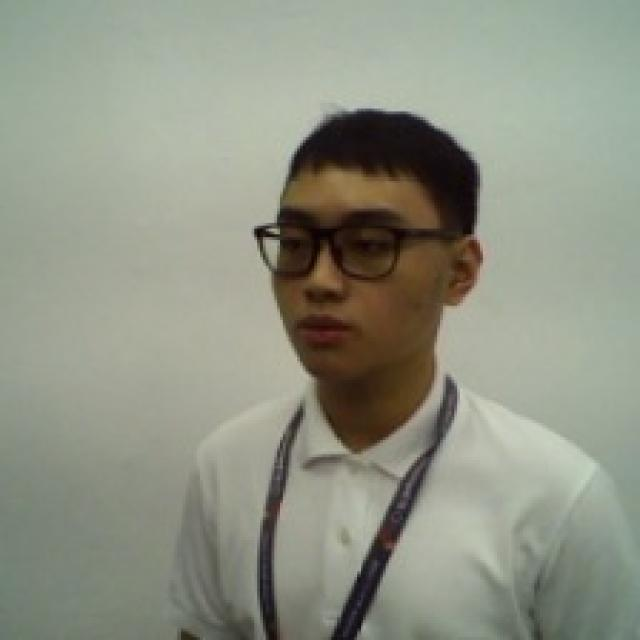no_gloves: (254, 107, 486, 231)
no_hairnet: (263, 227, 484, 396)
